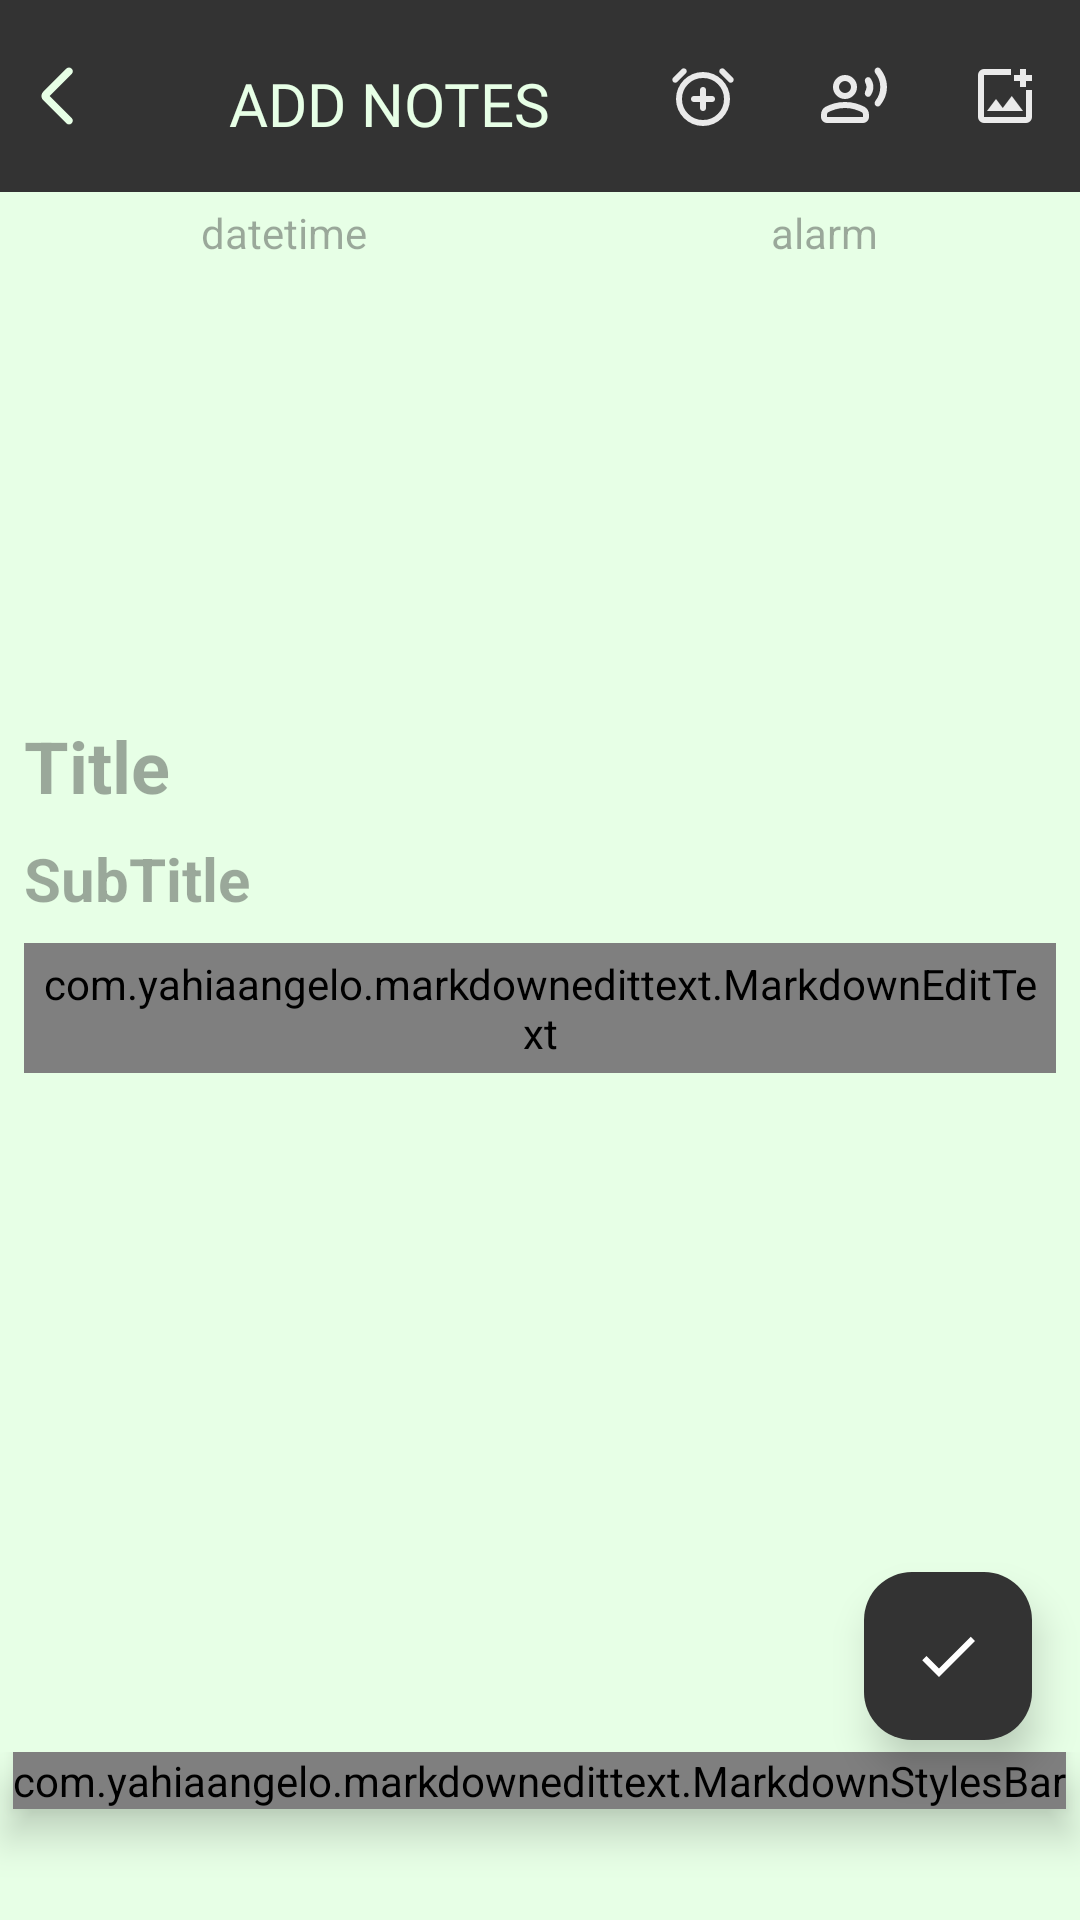

Screen size 1080×1920. Icon name, then its center in pixels as (x,y):
add photo: (1005,96)
addnotecheck: (948,1656)
arrow back: (57,96)
record voice: (854,95)
